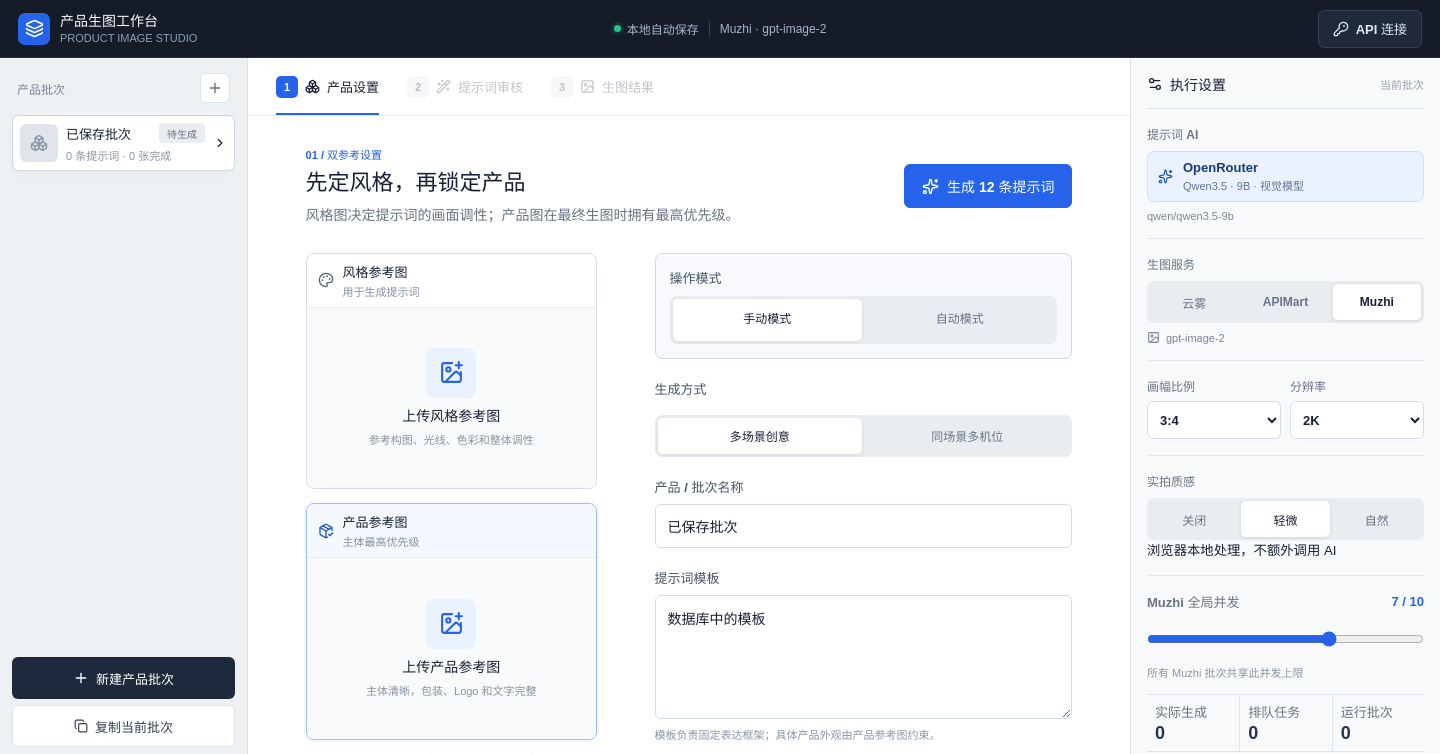
App workspace hydration › keeps stored batches when the preference read fails instead of saving the default batch
Check: the text box labelled "提示词模板 模板负责固定表达框架；具体产品外观由产品参考图约束。" holds "数据库中的模板", box [655,595,1072,719]
Click the button with class "new-batch-button" at (124, 678), box [12,657,235,699]
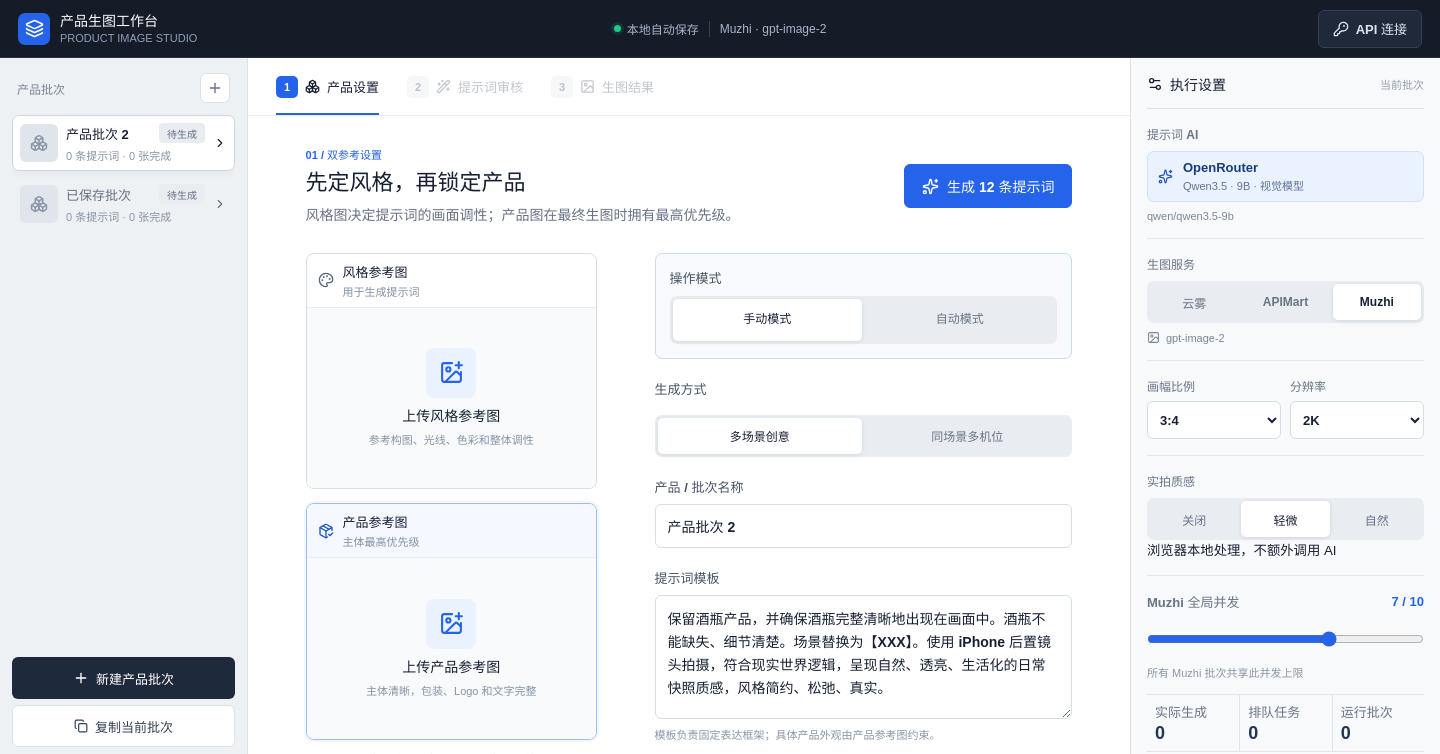
Check: the text box labelled "提示词模板 模板负责固定表达框架；具体产品外观由产品参考图约束。" holds "保留酒瓶产品，并确保酒瓶完整清晰地出现在画面中。酒瓶不能缺失、细节清楚。场景替换为【XXX】。使用 iPhone 后置镜头拍摄，符合现实世界逻辑，呈现自然、透亮、生活化的日常快照质感，风格简约、松弛、真实。", box [655,595,1072,719]
